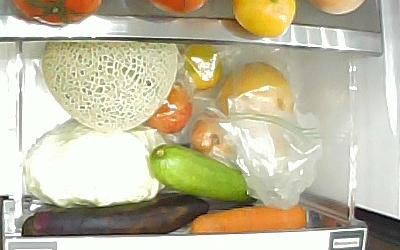cabbage: (24, 126, 162, 207)
carrot: (191, 200, 308, 234)
eggplant: (21, 196, 208, 237)
melon: (40, 43, 178, 135)
pear_vinyl: (221, 63, 293, 129)
prune_vinyl: (191, 117, 238, 162)
tangerine_vinyl: (182, 45, 221, 91)
tomato_vinyl: (145, 84, 192, 136)
zucchini: (151, 144, 259, 206)
